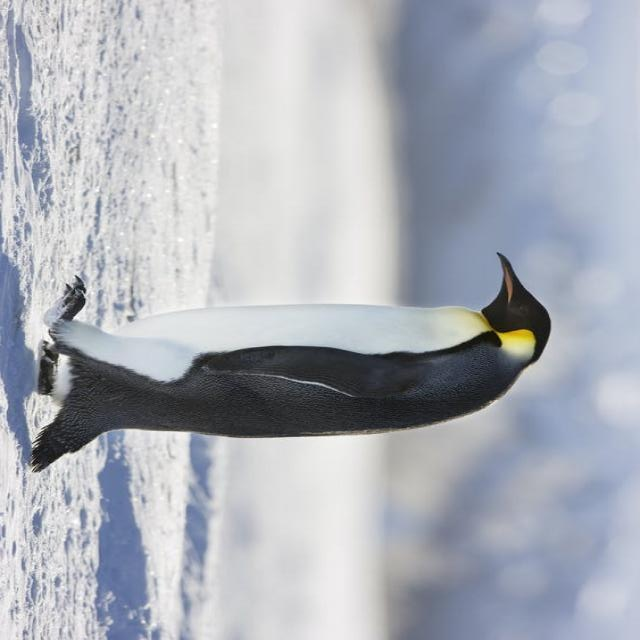penguin: (28, 251, 552, 474)
